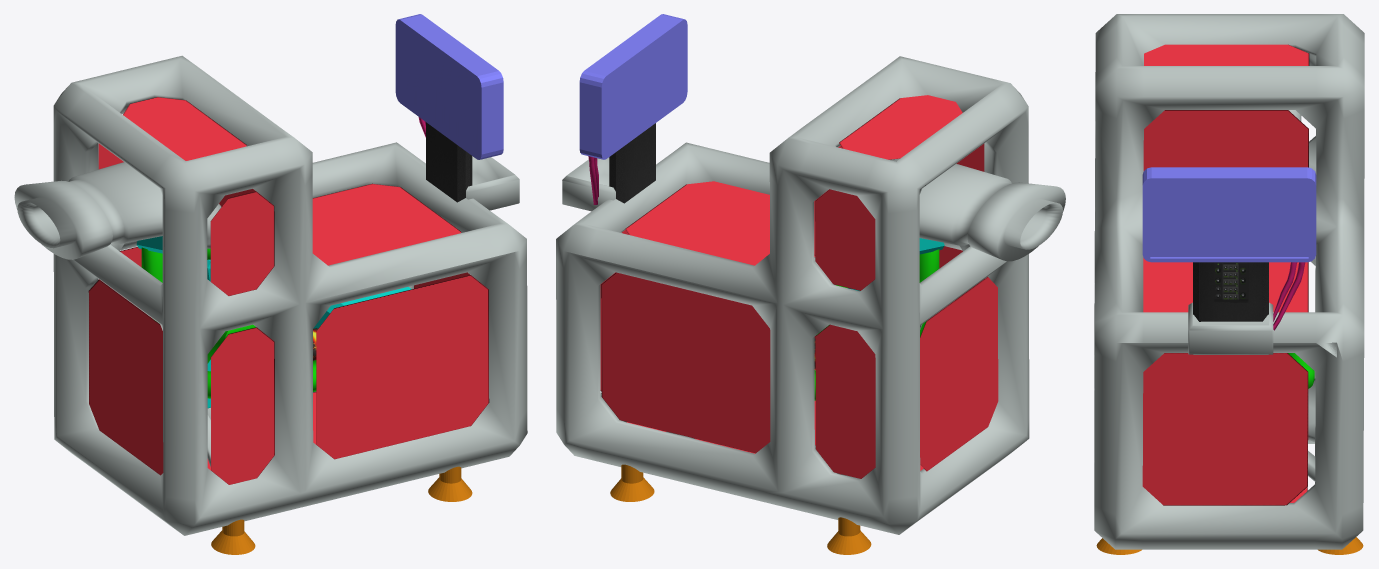
The model's file is AuftaugerätLow.fbx.
3 views of the same model, side by side, from view 1: azimuth 30°, elevation 25°; view 2: azimuth 150°, elevation 25°; view 3: azimuth 270°, elevation 25° (orthographic).
Parts seen in each view (by area): view 1: Gehäuse_Low, Glassscheiben.001, Computer, Heizstrahler, ComputerHalterung, Batteriehalterung, Beine, SchläucheLow; view 2: Gehäuse_Low, Glassscheiben.001, Computer, Heizstrahler, ComputerHalterung, Beine, Batteriehalterung, SchläucheLow; view 3: Gehäuse_Low, Glassscheiben.001, Computer, ComputerHalterung, Batteriehalterung, Energieleitung, Beine.
Boxes of the visible parts, box(x1,y1,x2,y2) form: Gehäuse_Low: box(53, 55, 527, 535); Glassscheiben.001: box(88, 97, 489, 484); Computer: box(395, 14, 503, 159); Heizstrahler: box(14, 162, 221, 259); ComputerHalterung: box(426, 122, 472, 202); Batteriehalterung: box(466, 156, 519, 210); Beine: box(211, 466, 472, 554); SchläucheLow: box(141, 247, 316, 398); Gehäuse_Low: box(556, 56, 1029, 534); Glassscheiben.001: box(600, 95, 998, 478); Computer: box(579, 14, 687, 159); Heizstrahler: box(919, 164, 1065, 261); ComputerHalterung: box(609, 123, 655, 203); Beine: box(610, 464, 871, 554); Batteriehalterung: box(562, 157, 615, 211); SchläucheLow: box(814, 249, 939, 400); Gehäuse_Low: box(1094, 14, 1364, 549); Glassscheiben.001: box(1142, 44, 1309, 505); Computer: box(1142, 167, 1316, 262); ComputerHalterung: box(1193, 262, 1268, 321); Batteriehalterung: box(1188, 302, 1273, 354); Energieleitung: box(1273, 262, 1305, 330); Beine: box(1096, 537, 1363, 554).
Size of the model in its own units: 656 by 538 by 331.
